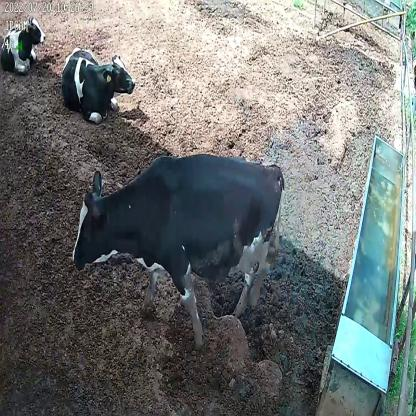cow: (71, 152, 284, 344), (60, 45, 136, 126), (2, 14, 46, 75)
